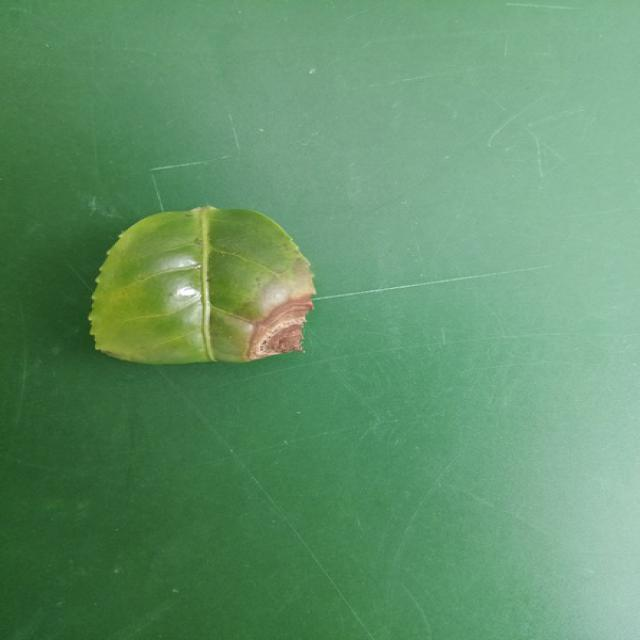Tea cloud leaf blight: (233, 274, 331, 361)
